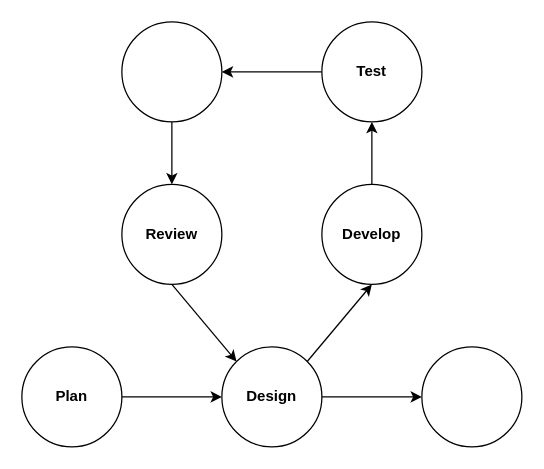
This 544x469 diagram has some shape labels left out. The centre of each missing label's shape, as x and y in pixels:
"Deploy" goes at pixel 171 71.
"Launch" goes at pixel 471 396.
